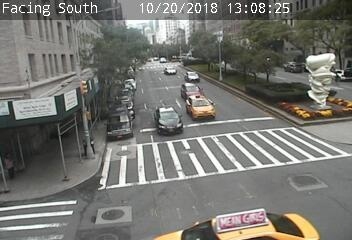car: (158, 107, 180, 130), (189, 97, 212, 117), (180, 80, 205, 98), (163, 64, 177, 75), (189, 74, 201, 81)
